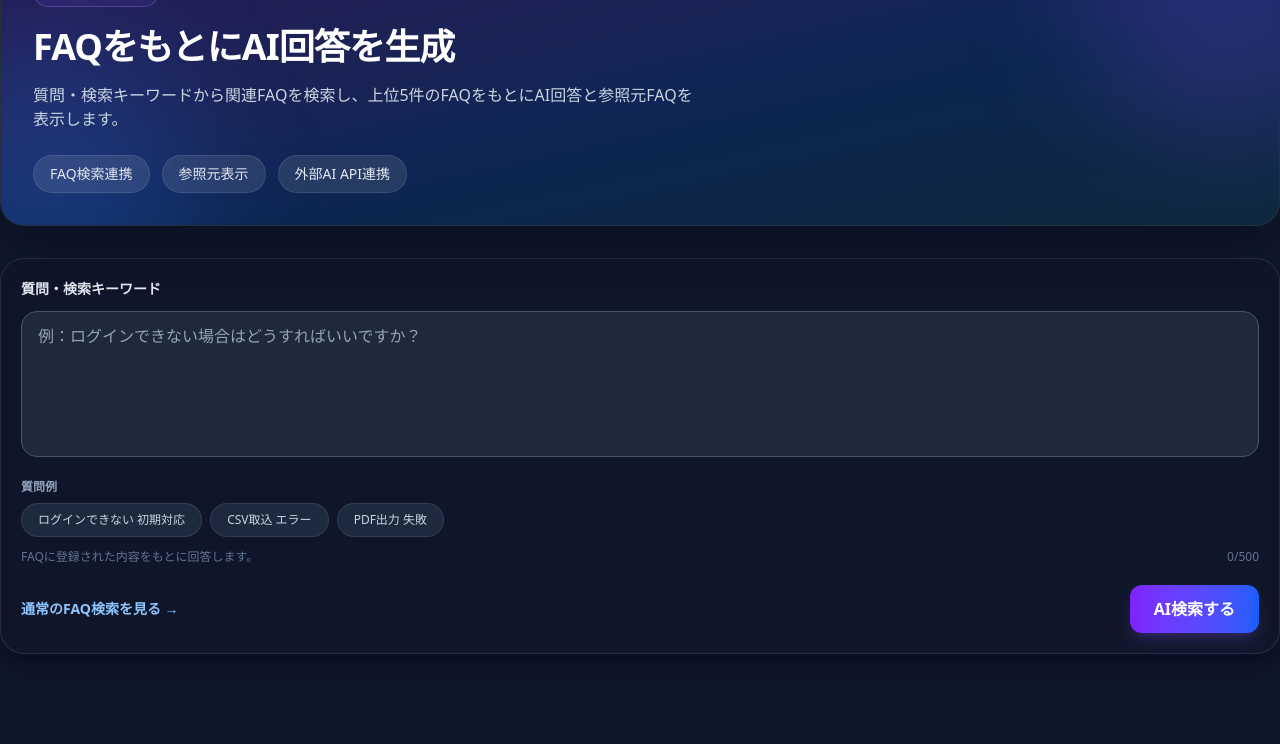
Test: AiSearchPage › 参照元FAQがない回答では参照元なしメッセージを表示する
Type "ログインできない" into the text box with placeholder "例：ログインできない場合はどうすればいいですか？". click: x=640, y=384
box: [21,311,1259,457]
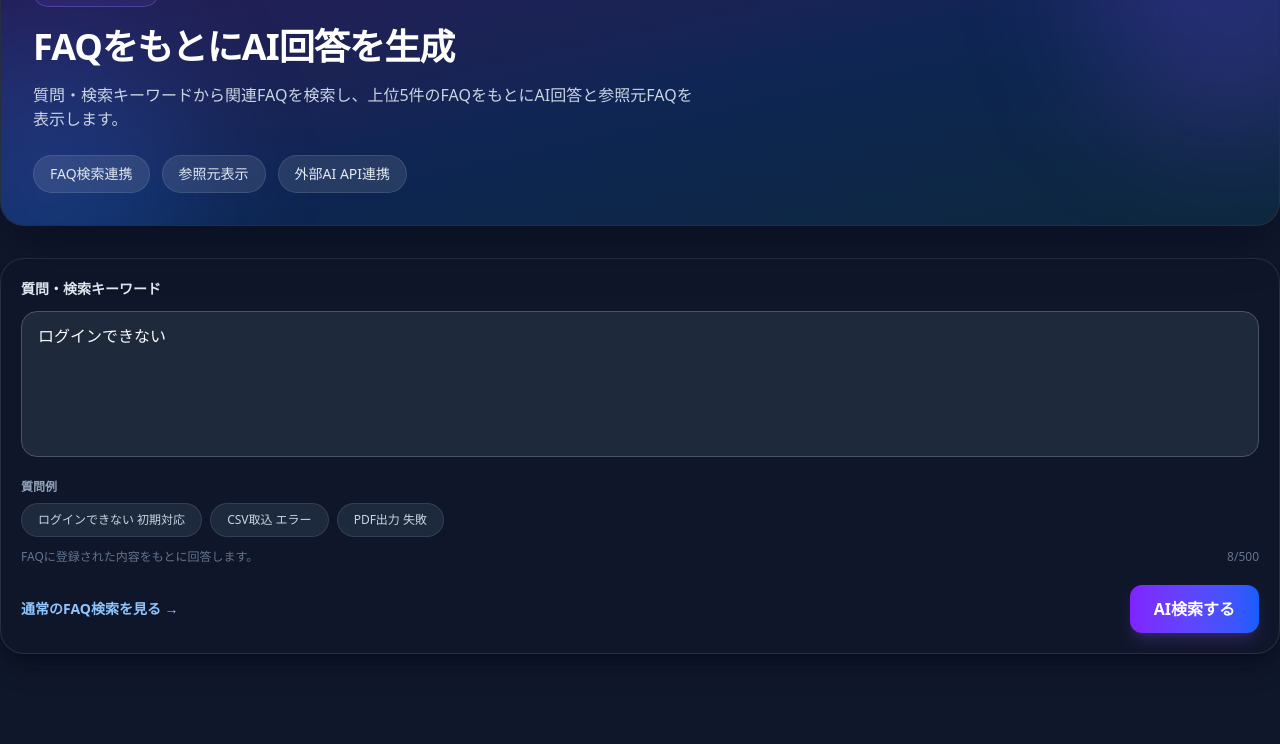
Click the button "AI検索する". click: x=1194, y=609
box: [1130,585,1259,633]
(page scrolled)
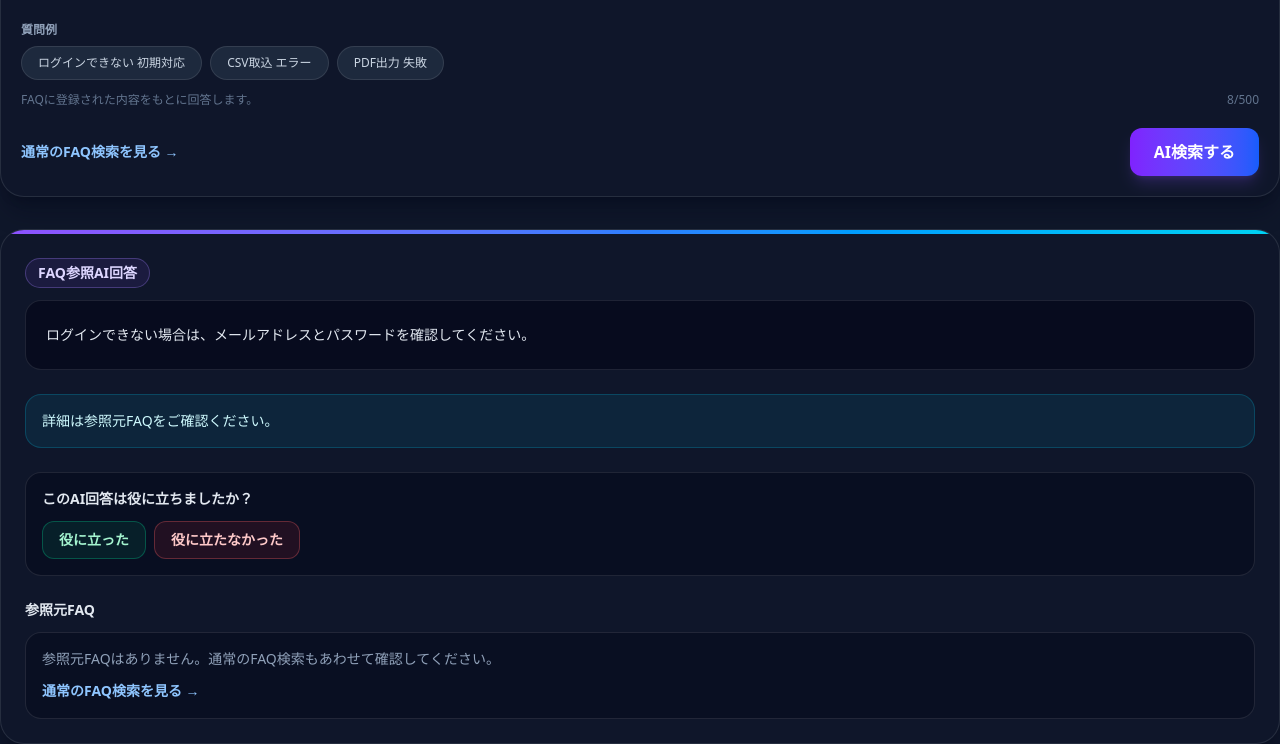
Check: the text "ログインできない場合は、メールアドレスとパスワードを確認してください。" is shown, box [25,300,1255,370]
Check: the text "参照元FAQはありません。通常のFAQ検索もあわせて確認してください。" is shown, box [42,649,500,668]
